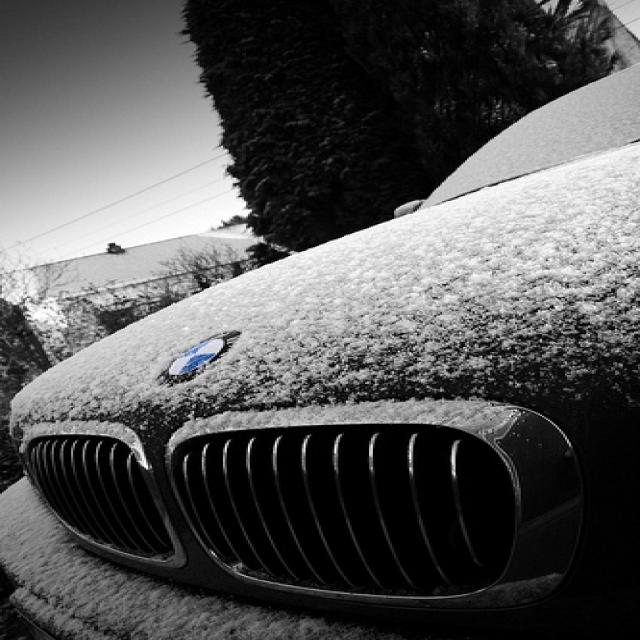bmw: (159, 331, 238, 384)
